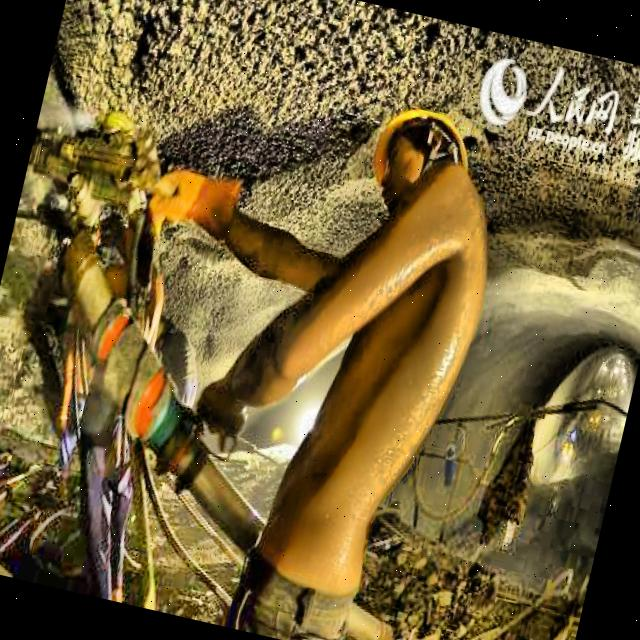helmet: (362, 89, 482, 214)
